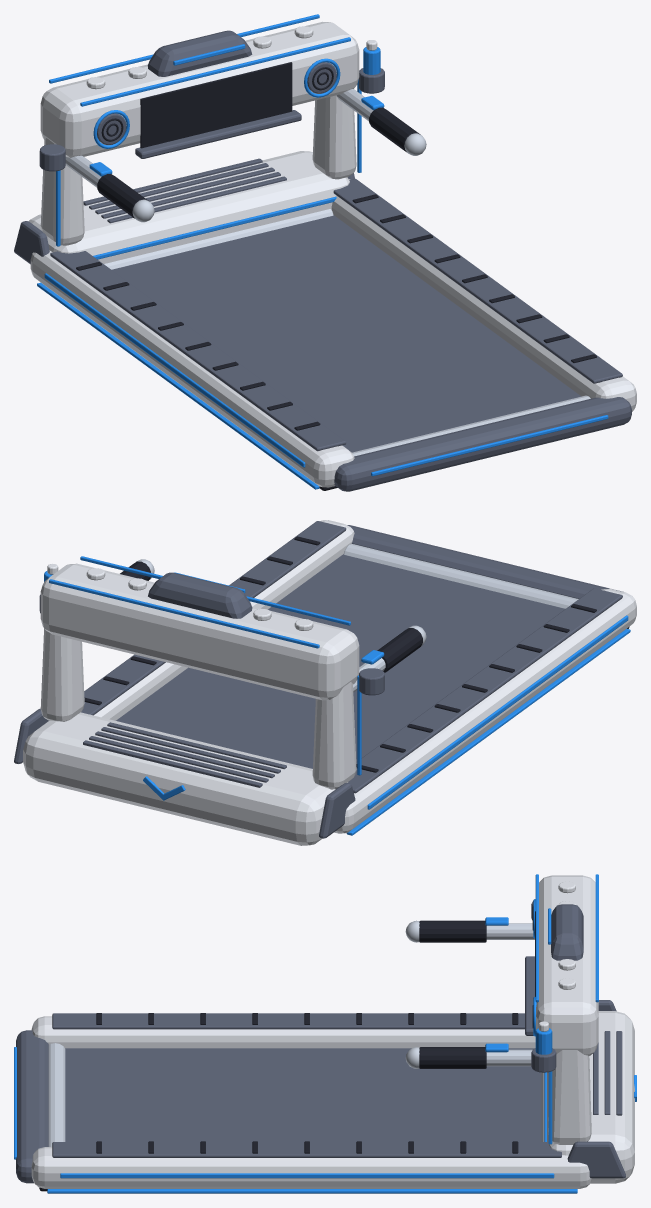
File: Treadmill_Acier.fbx
3 renders of one model, top to bottom at view 1: azimuth 30°, elevation 25°; view 2: azimuth 150°, elevation 25°; view 3: azimuth 270°, elevation 25°, orthographic. The views are drawn at different scales.
Visible parts, largest first — view 1: Trim, Body.001, Rubber, Glow, Chrome; view 2: Trim, Body.001, Glow, Chrome, Rubber; view 3: Trim, Body.001, Glow, Rubber, Chrome.
Part boxes in pixels (x1=…): Trim: x1=14, y1=30, x2=631, y2=491; Body.001: x1=28, y1=21, x2=636, y2=487; Rubber: x1=76, y1=62, x2=596, y2=490; Glow: x1=37, y1=14, x2=608, y2=489; Chrome: x1=65, y1=89, x2=590, y2=456; Trim: x1=14, y1=521, x2=623, y2=838; Body.001: x1=23, y1=520, x2=636, y2=845; Glow: x1=44, y1=556, x2=630, y2=835; Chrome: x1=136, y1=544, x2=578, y2=692; Rubber: x1=84, y1=536, x2=629, y2=772; Trim: x1=16, y1=901, x2=625, y2=1183; Body.001: x1=31, y1=875, x2=634, y2=1188; Glow: x1=14, y1=874, x2=636, y2=1193; Rubber: x1=39, y1=907, x2=535, y2=1191; Chrome: x1=48, y1=920, x2=544, y2=1146.
Size of the model in its own units: 14.46 by 8.55 by 23.96.
